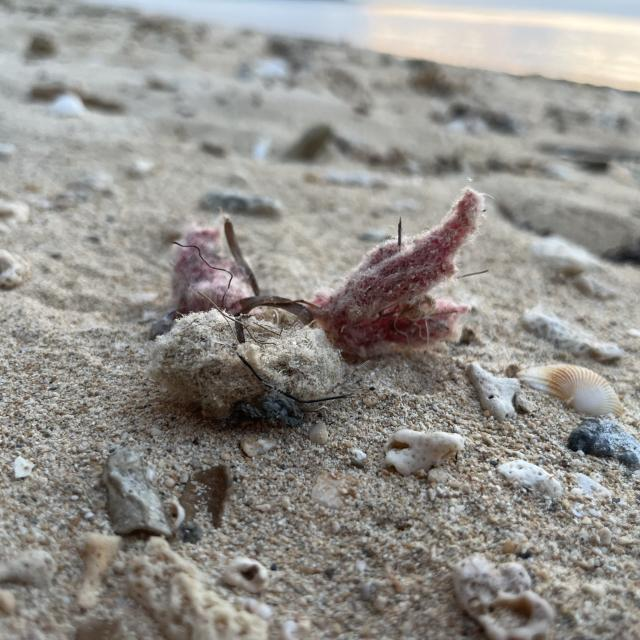shell: (512, 338, 635, 432)
trash: (110, 172, 514, 448)
